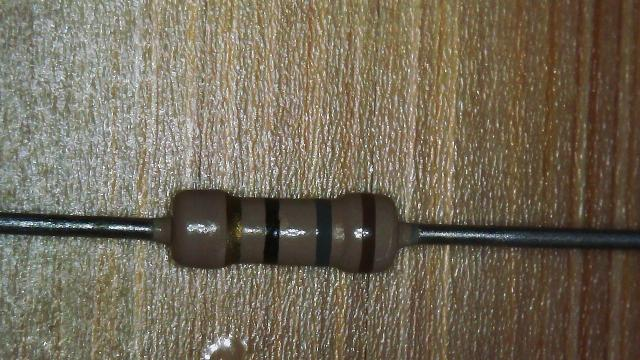black: (266, 197, 278, 264)
brown: (363, 193, 374, 270)
gold: (227, 194, 240, 264)
grey: (316, 199, 331, 266)
resistor: (151, 166, 423, 294)
